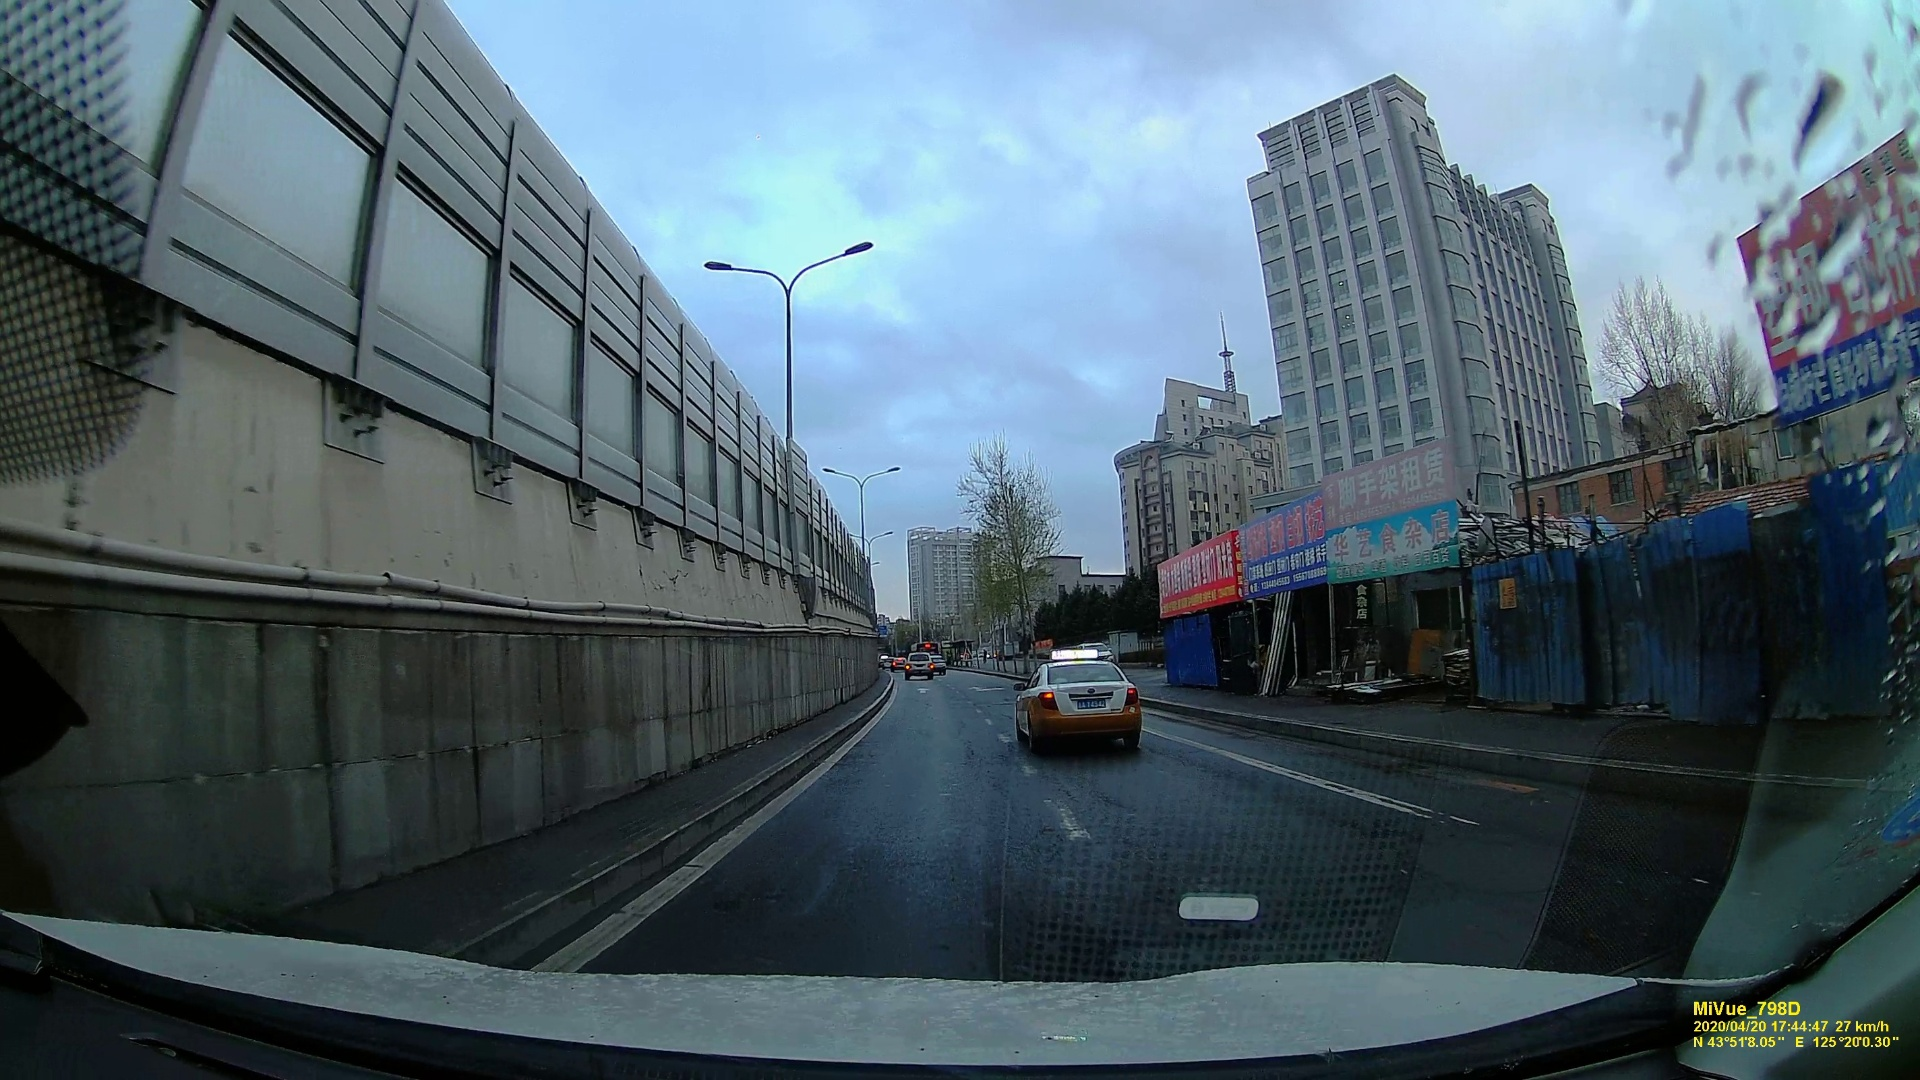vehicle: (1011, 655, 1143, 756), (905, 651, 934, 680)
